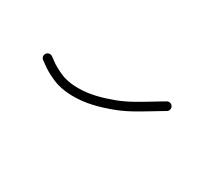r: (90, 84, 186, 135)
